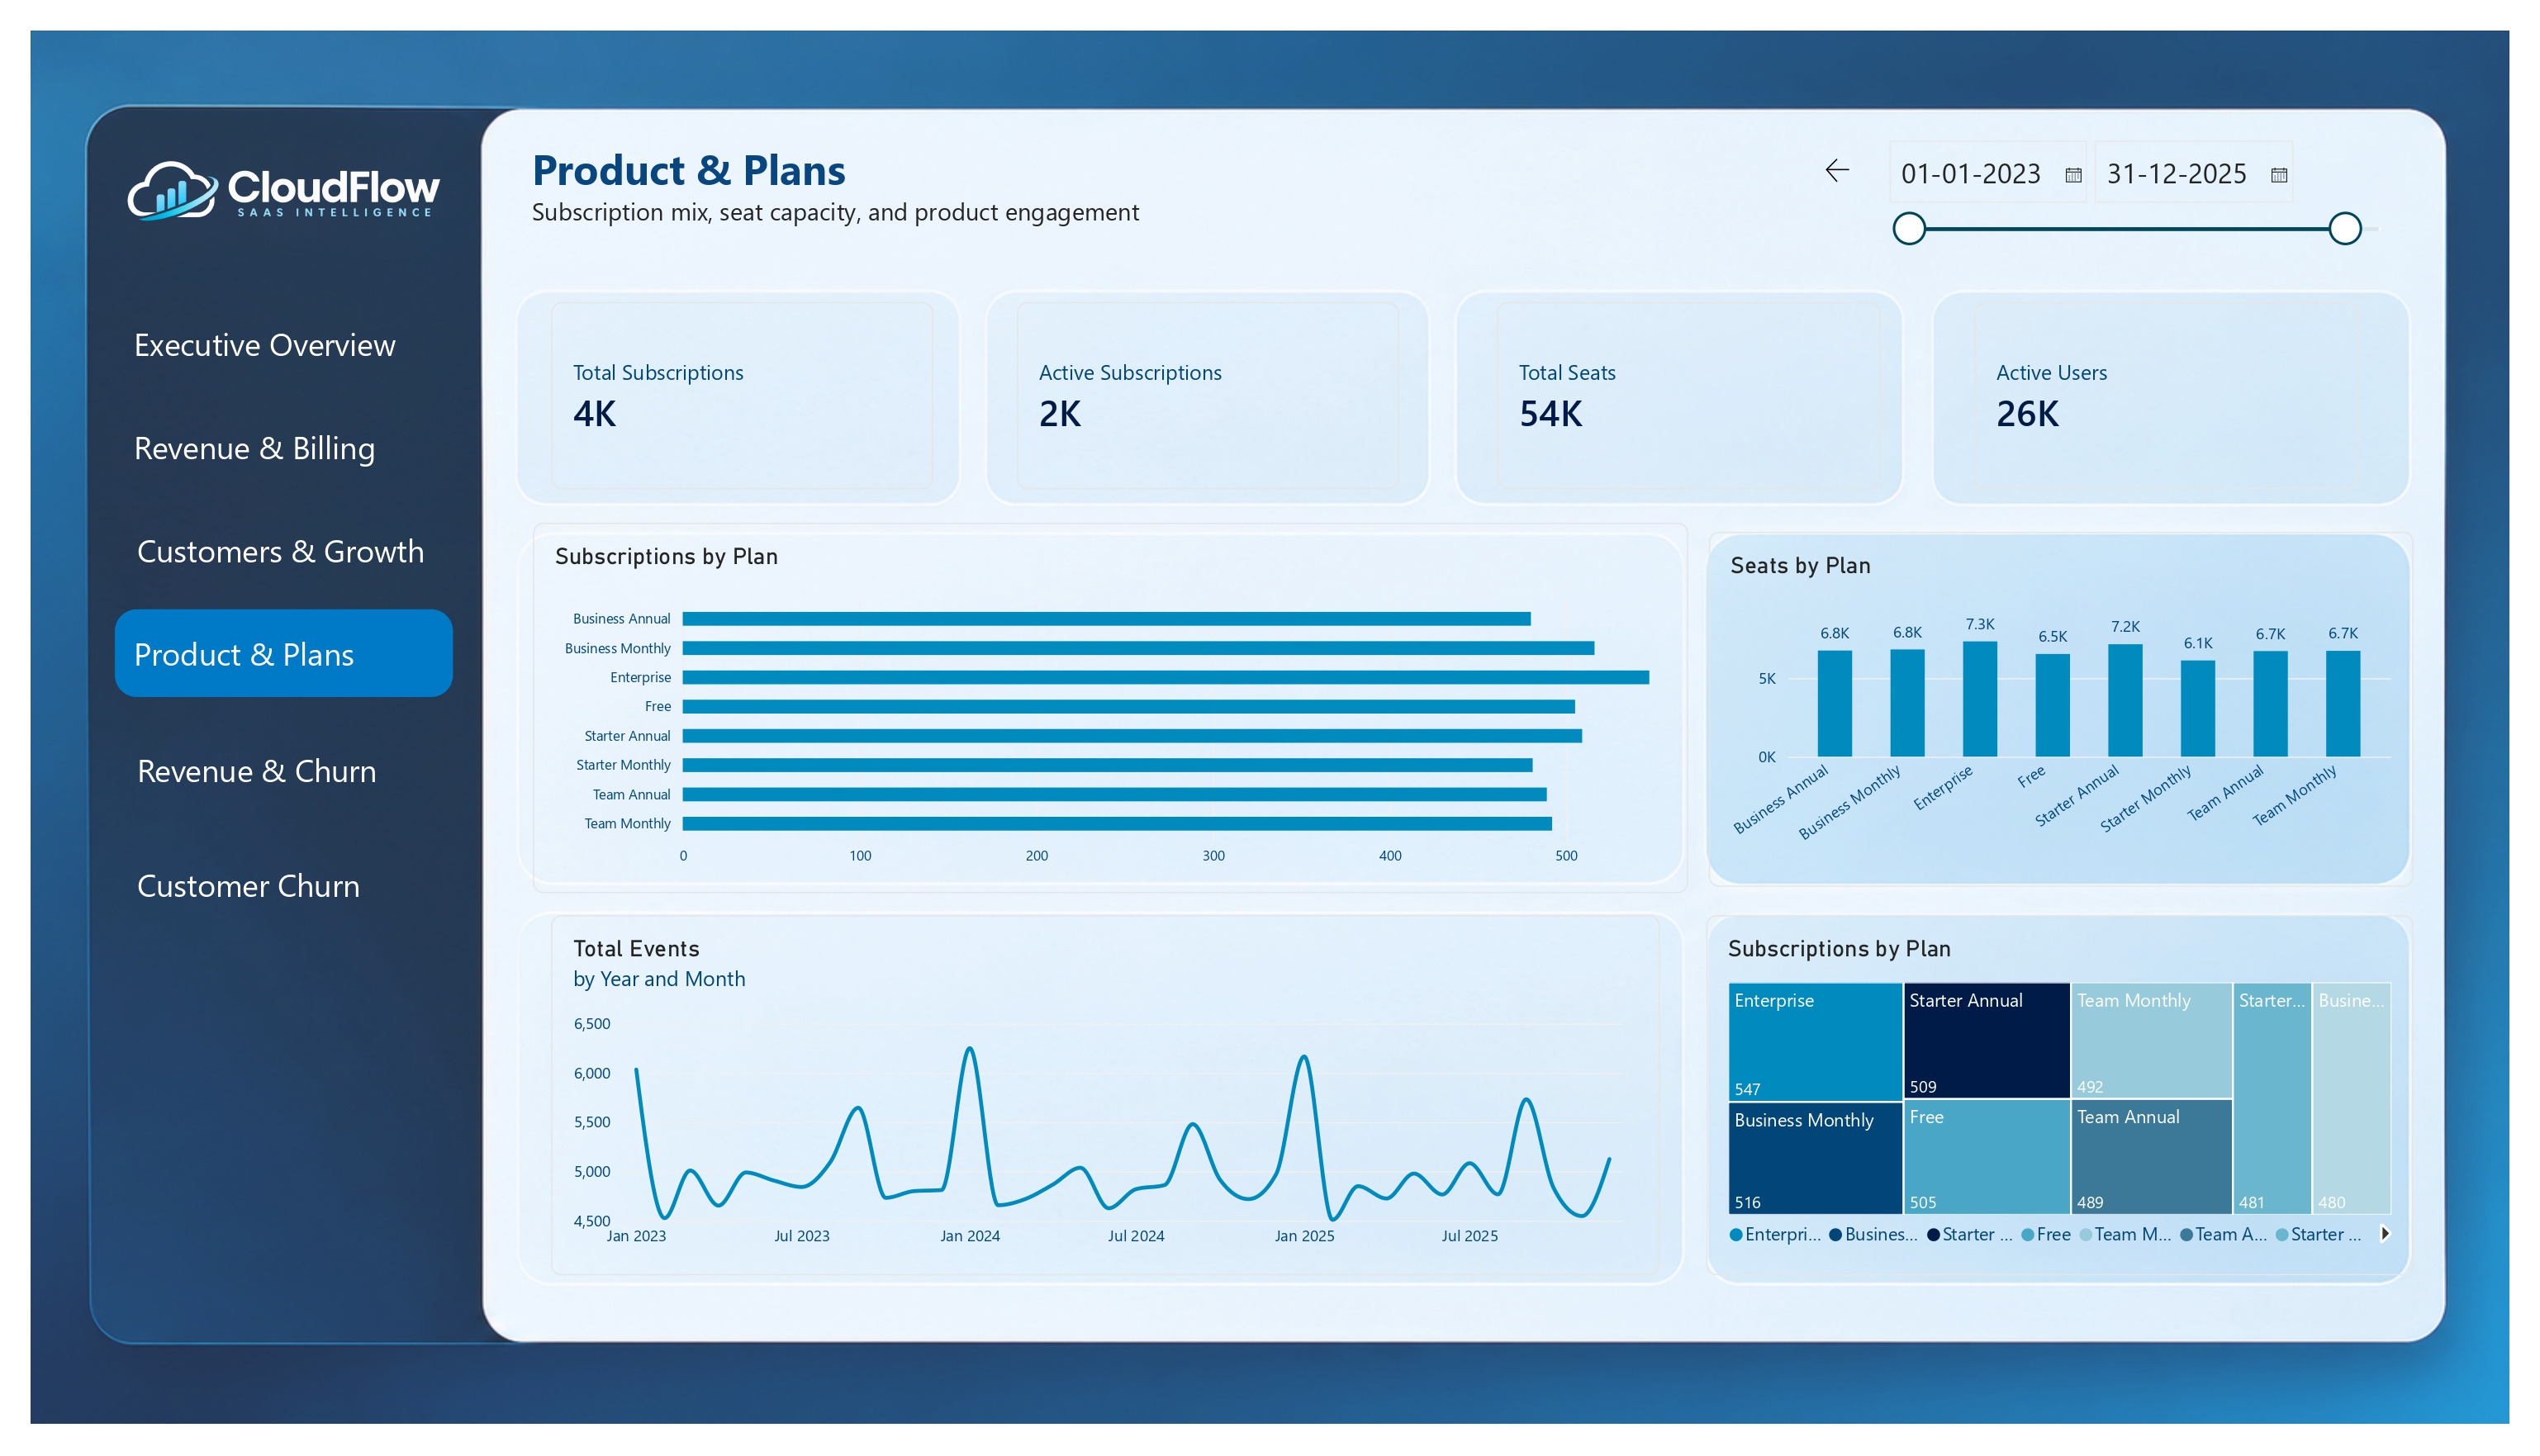

The dashboard page shown, as its layout file describes it:
{"tool":"powerbi","page":{"name":"Product & Plans","canvas":[1920,1080],"ordinal":3},"visuals":[{"type":"cardVisual","fields":{"Data":["_Measures (2).Total Subscriptions"]},"box":[402.5,209.9,296.5,145],"z":0},{"type":"cardVisual","fields":{"Data":["_Measures (2).Active Subscriptions"]},"box":[763.9,209.9,296.5,145],"z":1000},{"type":"cardVisual","fields":{"Data":["_Measures (2).Total Seats"]},"box":[1136.2,209.9,296.5,145],"z":2000},{"type":"cardVisual","fields":{"Data":["_Measures (2).Active Users"]},"box":[1506.2,209.9,296.5,145],"z":3000},{"type":"slicer","fields":{"Values":["Dim_Date_table.Date"]},"box":[1431.7,80,405,91.7],"z":4000},{"type":"clusteredBarChart","title":"Subscriptions by Plan","fields":{"Category":["Dim_plans.plan_name"],"Y":["_Measures (2).Subscriptions by Plan"]},"box":[388.8,381.2,895,286.2],"z":5000},{"type":"actionButton","box":[1365.6,75.7,67.1,62.8],"z":7000},{"type":"clusteredColumnChart","title":"Seats by Plan","fields":{"Category":["Dim_plans.plan_name"],"Y":["_Measures (2).Total Seats"]},"box":[1299.8,388.3,546.5,275.1],"z":8000},{"type":"treemap","title":"Subscriptions by Plan","fields":{"Group":["Dim_plans.plan_name"],"Values":["_Measures (2).Subscriptions by Plan"]},"box":[1298,684.9,548.3,278.7],"z":9000},{"type":"shape","box":[64.9,208.7,262.7,67.3],"z":10000},{"type":"shape","box":[64.9,288,262,68],"z":11000},{"type":"shape","box":[66.9,368,262,68],"z":12000},{"type":"shape","box":[64.9,448,262,68],"z":13000},{"type":"textbox","box":[388.3,84.5,523.1,88.1],"z":14000},{"type":"lineChart","fields":{"Category":["Dim_Date_table.Date.Variation.Date Hierarchy.Year","Dim_Date_table.Date.Variation.Date Hierarchy.Month","Dim_Date_table.Date.Variation.Date Hierarchy.Day"],"Y":["_Measures (2).Total Events"]},"box":[402.7,684.9,859.3,278.7],"z":15000},{"type":"shape","box":[66.5,537.5,262.5,68.3],"z":16000},{"type":"shape","box":[66.5,627.4,262.5,68.3],"z":17000},{"type":"image","box":[64.7,50.3,262.5,149.2],"z":18000}]}

Visuals, with their boxes on the page's 1920x1080 design canvas (x1, y1, x2, y2). These are canvas units, not pixel positions in the 2540x1456 screenshot, which may show the page scaled, cropped or inside an application window:
cardVisual - _Measures (2).Total Subscriptions: bbox=(402, 210, 699, 355)
cardVisual - _Measures (2).Active Subscriptions: bbox=(764, 210, 1060, 355)
cardVisual - _Measures (2).Total Seats: bbox=(1136, 210, 1433, 355)
cardVisual - _Measures (2).Active Users: bbox=(1506, 210, 1803, 355)
slicer - Dim_Date_table.Date: bbox=(1432, 80, 1837, 172)
"Subscriptions by Plan" clusteredBarChart: bbox=(389, 381, 1284, 667)
actionButton: bbox=(1366, 76, 1433, 138)
"Seats by Plan" clusteredColumnChart: bbox=(1300, 388, 1846, 663)
"Subscriptions by Plan" treemap: bbox=(1298, 685, 1846, 964)
shape: bbox=(65, 209, 328, 276)
shape: bbox=(65, 288, 327, 356)
shape: bbox=(67, 368, 329, 436)
shape: bbox=(65, 448, 327, 516)
textbox: bbox=(388, 84, 911, 173)
lineChart - Dim_Date_table.Date.Variation.Date Hierarchy.Year x Dim_Date_table.Date.Variation.Date Hierarchy.Month: bbox=(403, 685, 1262, 964)
shape: bbox=(66, 538, 329, 606)
shape: bbox=(66, 627, 329, 696)
image: bbox=(65, 50, 327, 200)
